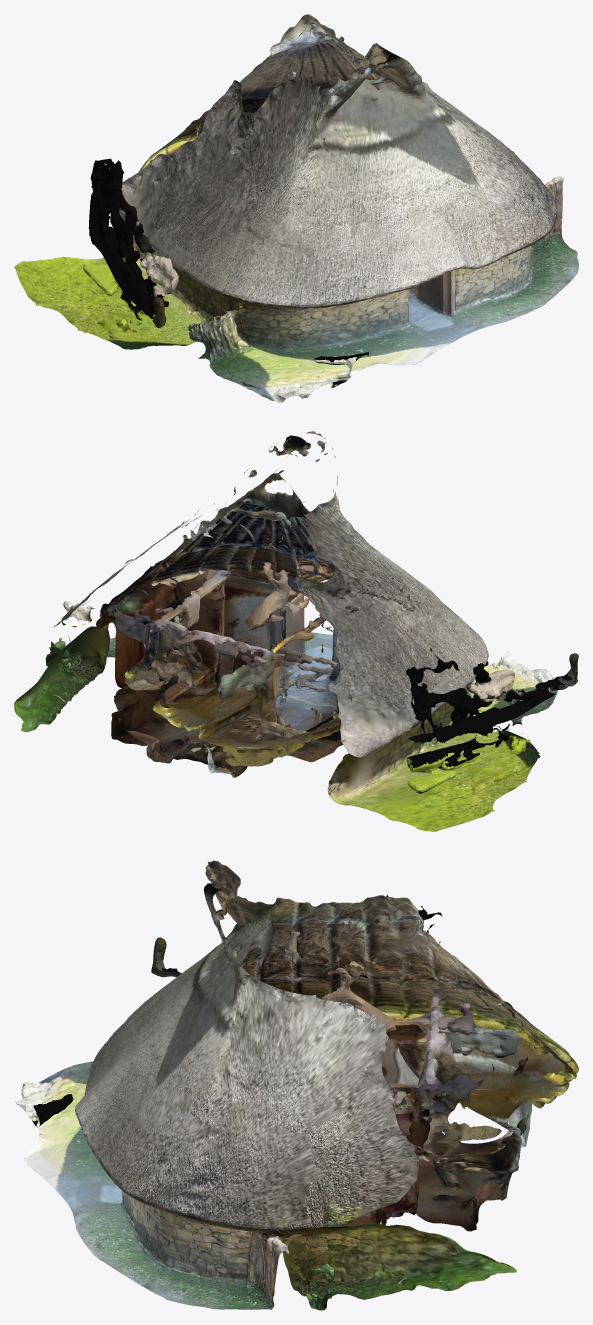
The model's file is NewTeachCormaic.compressed.glb.
The picture shows the model from 3 angles, top to bottom: view 1: azimuth 30°, elevation 25°; view 2: azimuth 150°, elevation 25°; view 3: azimuth 270°, elevation 25°; orthographic projection. The views are drawn at different scales.
Size of the model in its own units: 12.27 by 6.45 by 10.
Materials: 5 (5 with a texture image).
